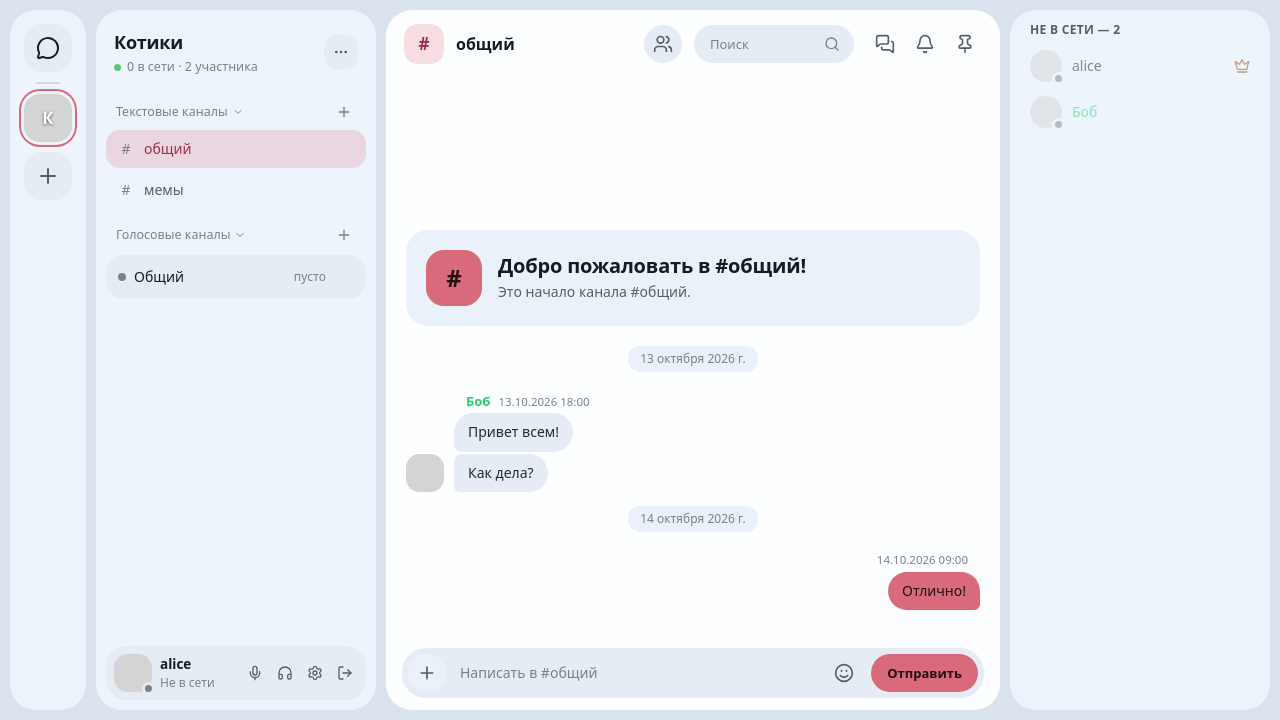
Test: joining voice › still connects, muted, when the microphone is not available
Click the button with aria-label "Голосовой канал Общий": (210, 277) [134,267,286,287]
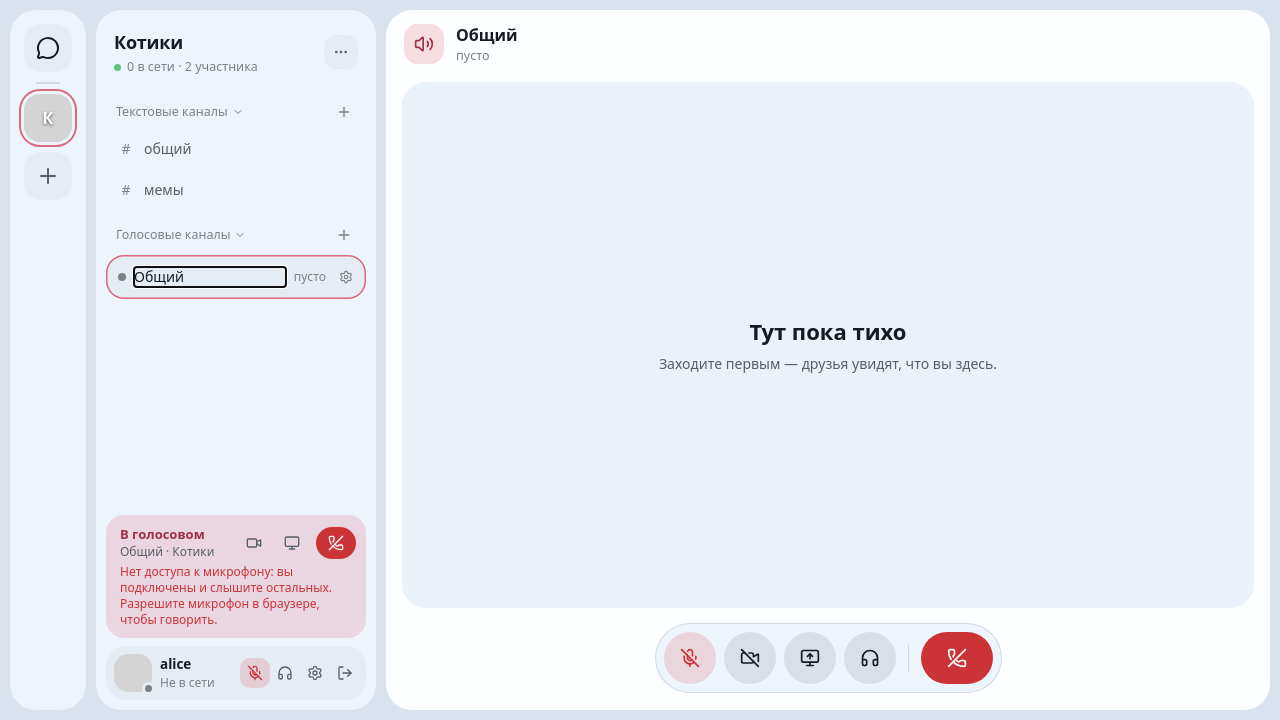
Expected: the element named "Голосовое подключение" shows "В голосовом", [120,525,205,543]
Expected: the message shows "Нет доступа к микрофону", [120,563,332,628]
Expected: the button named "Включить микрофон" is shown, [240,658,270,688]
